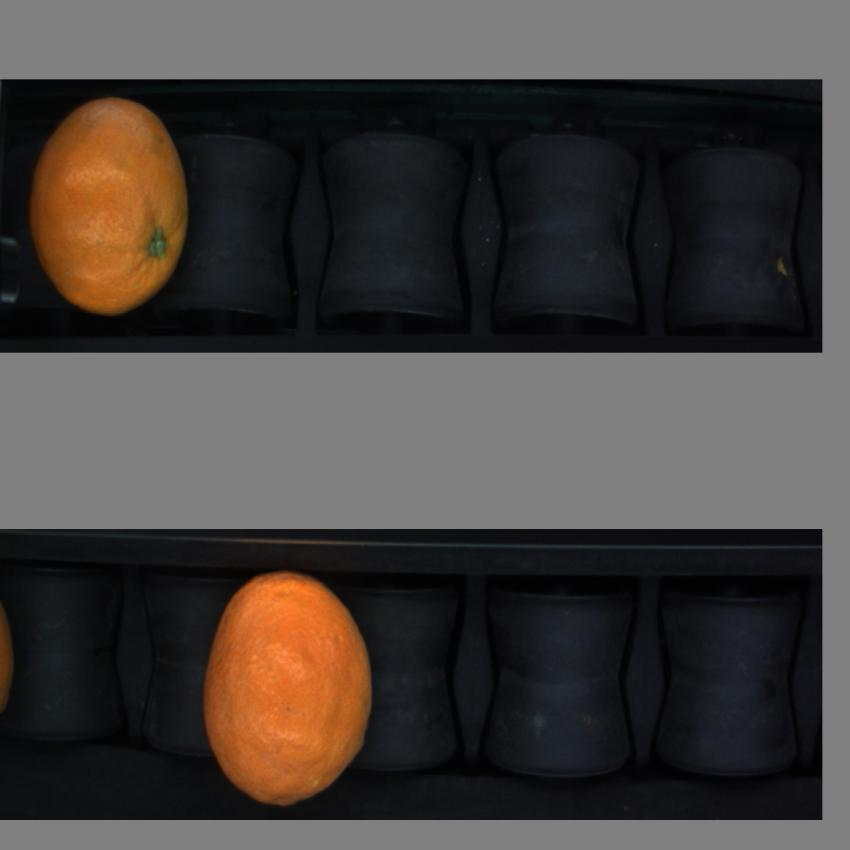Buen estado: (203, 557, 381, 807), (20, 93, 206, 320)
